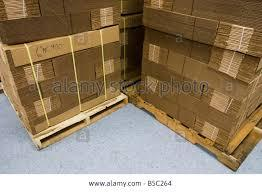Cardboard: (0, 0, 254, 162)
